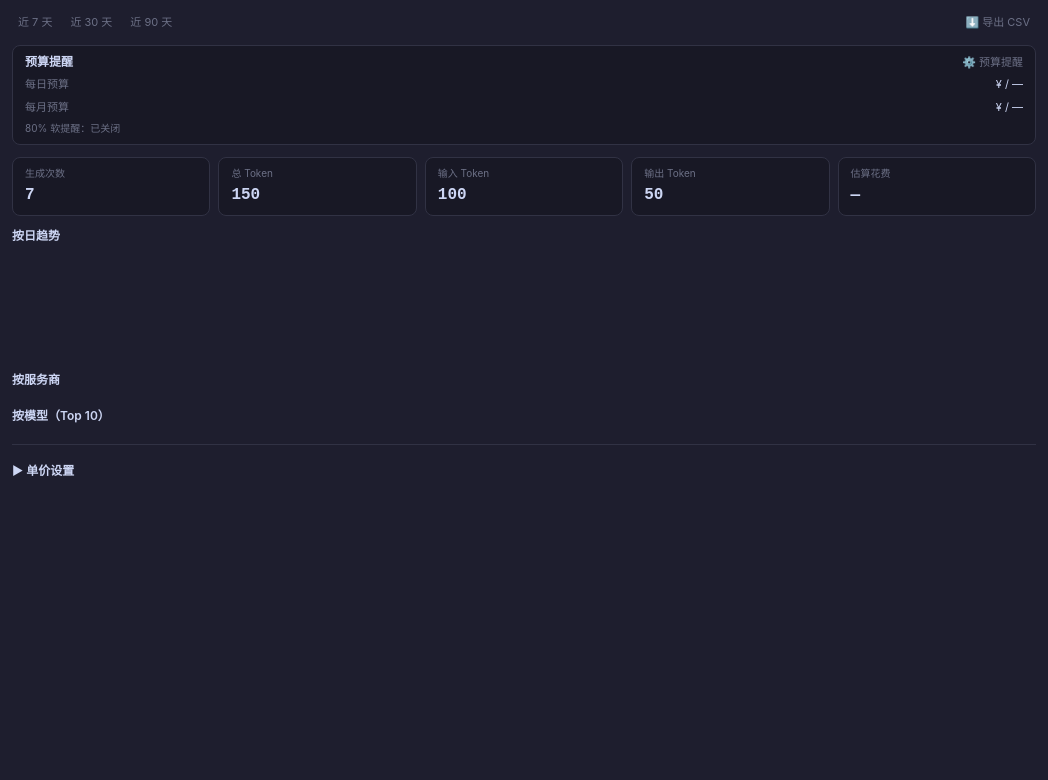
Test case: ⑤ 用量汇总：默认窗 30 天，点到「近 7 天」那一发失败 ⇒ 屏上还是上一次读到的数，但那句必须说得出 › 首读到 requests=7、切窗失败 ⇒ 旧值横幅在且那个 7 还画着；重试读到 9 ⇒ 那句收回、新数上屏
The image size is (1048, 780).
Expected: the text "7" is shown, [25, 186, 35, 204]
Click the button "近 7 天".
click(35, 22)  # box [12, 12, 58, 32]
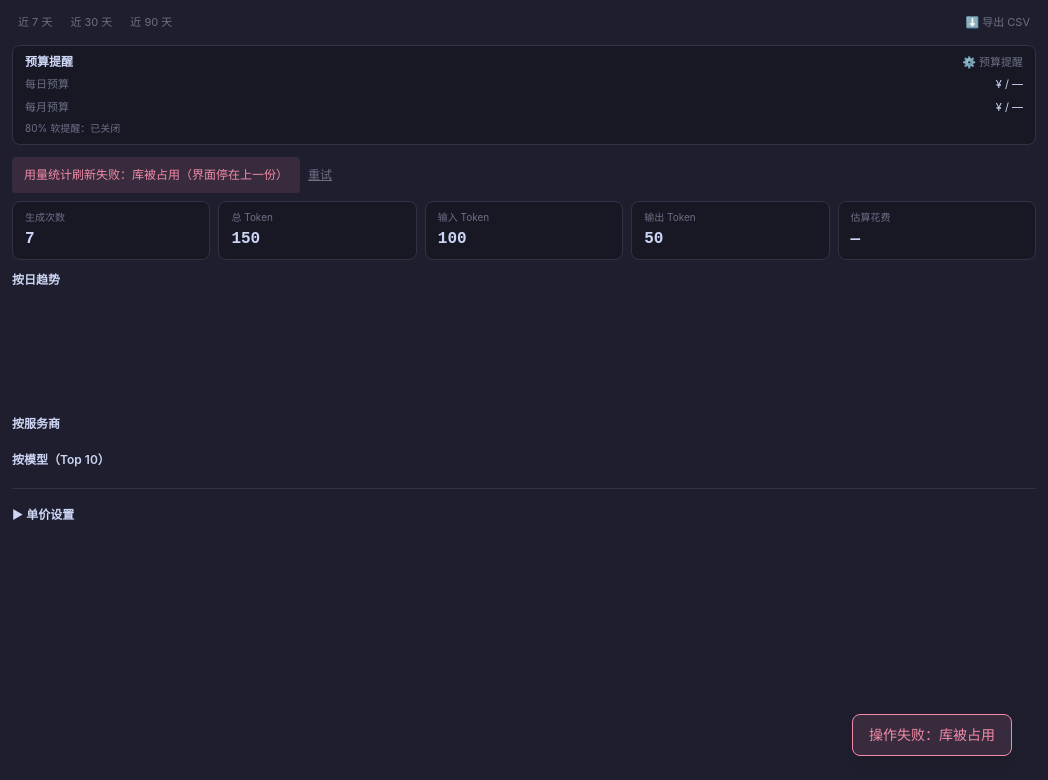
Expected: the text "7" is shown, [25, 230, 35, 248]
Click the button with test id "usage-summary-stale-retry".
click(320, 175)  # box [308, 167, 332, 183]
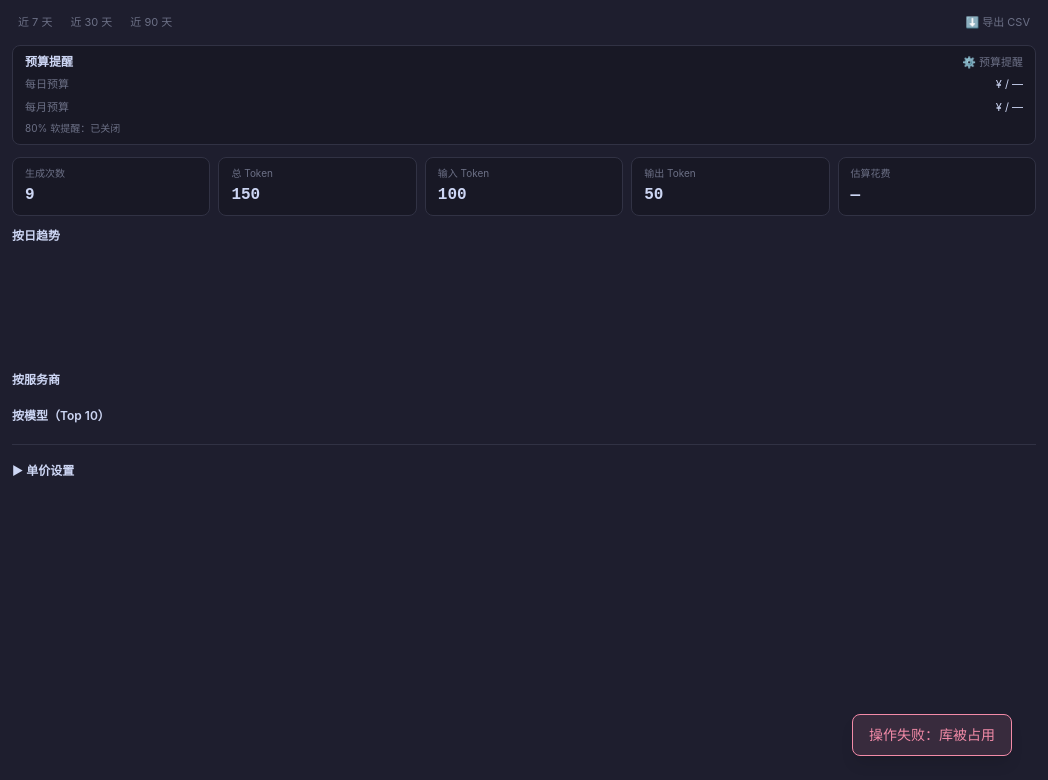
Expected: the text "9" is shown, [25, 186, 35, 204]
